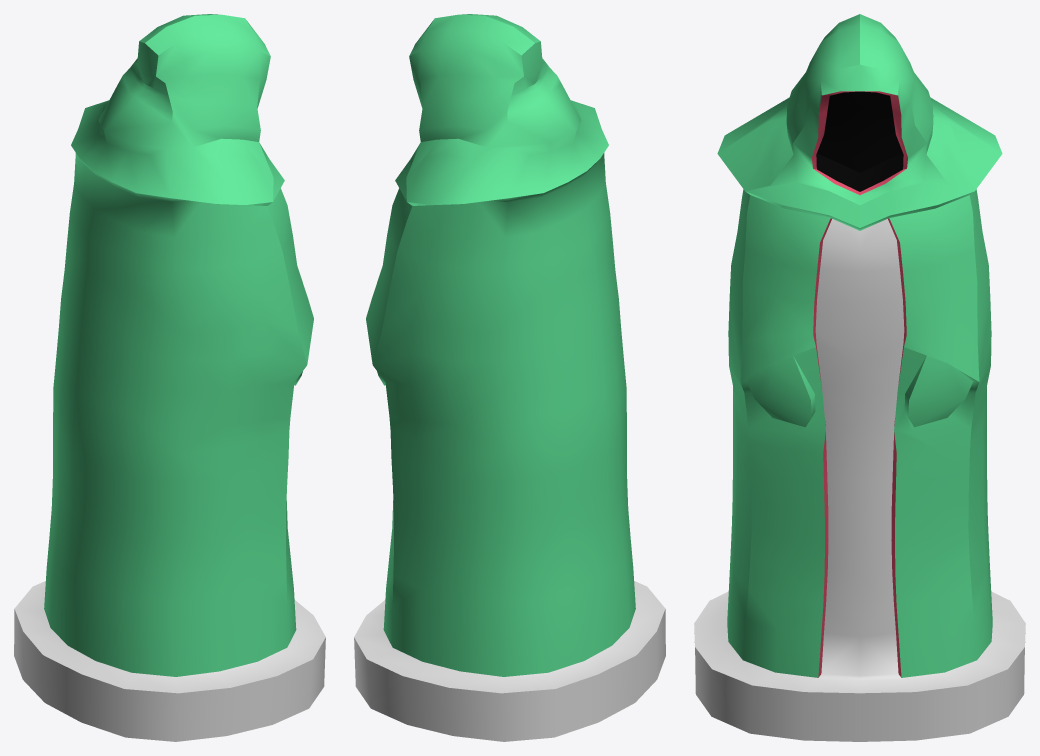
File: Guardian.fbx
3 renders of one model, left to right at view 1: azimuth 30°, elevation 25°; view 2: azimuth 150°, elevation 25°; view 3: azimuth 270°, elevation 25°, orthographic. The views are drawn at different scales.
Parts seen in each view (by area): view 1: Guardian; view 2: Guardian; view 3: Guardian.
Part boxes in pixels (x1,y1,x2,y2): Guardian: (14,14,325,741); Guardian: (354,14,665,741); Guardian: (694,14,1025,741).
Bounding box in the file's own units: 180 × 455 × 204.
